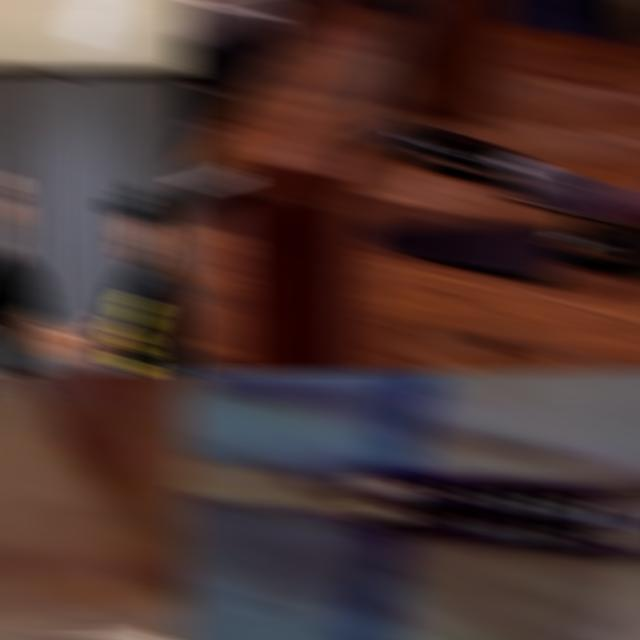Knife: (176, 452, 640, 560), (398, 121, 640, 232), (360, 215, 640, 278), (360, 109, 460, 156)
Knife_Handle: (0, 453, 194, 640)
